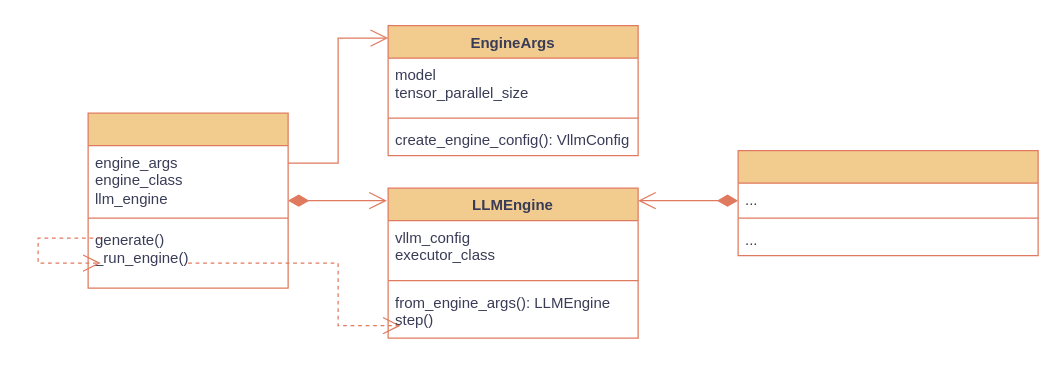
The diagram is 1060 pixels wide and 366 high, and some of its shapes have lost their labels. The box of each missing label's shape, as (x1, y1, x2, y2) in pixels:
AsyncLLMEngine (在线推理入口): (737, 149, 1038, 256)
LLM (离线推理入口): (87, 112, 288, 288)
